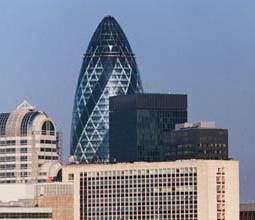building: (69, 16, 144, 163), (62, 161, 239, 220), (109, 92, 187, 162), (0, 98, 62, 182), (164, 122, 229, 160)
